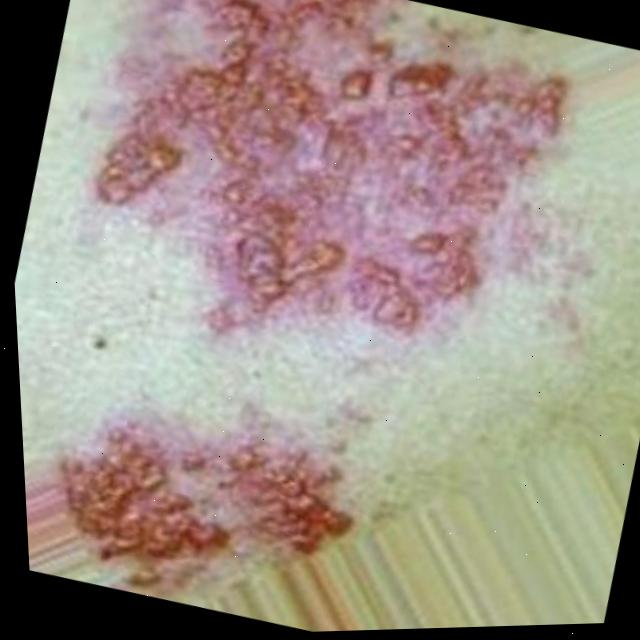Shingles: (52, 0, 597, 410), (36, 388, 372, 615)
